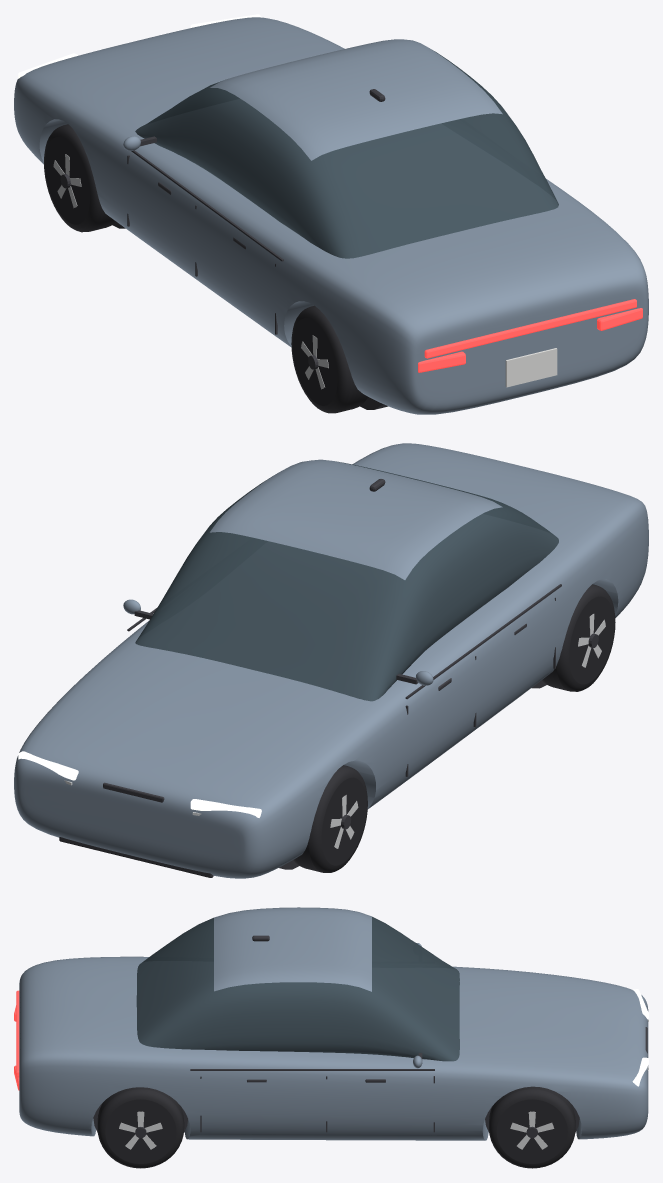
File: car_sedan.glb
The picture shows the model from 3 angles, top to bottom: view 1: azimuth 30°, elevation 25°; view 2: azimuth 150°, elevation 25°; view 3: azimuth 270°, elevation 25°; orthographic projection. The views are drawn at different scales.
Visible parts, largest first — view 1: car_body, car_glasshouse, car_wh10_tire, car_wh00_tire, car_tailbar, car_plate_r, car_tail0, car_seamh0, car_tail1; view 2: car_body, car_glasshouse, car_wh00_tire, car_wh10_tire, car_intake, car_head0; view 3: car_body, car_glasshouse, car_wh01_tire, car_wh11_tire, car_seamh1.
Boxes of the visible parts, box(x1,y1,x2,y2) form: car_body: box(14, 17, 648, 414); car_glasshouse: box(135, 39, 558, 258); car_wh10_tire: box(291, 305, 367, 413); car_wh00_tire: box(44, 124, 116, 232); car_tailbar: box(424, 299, 636, 358); car_plate_r: box(505, 348, 557, 387); car_tail0: box(418, 351, 465, 372); car_seamh0: box(131, 150, 283, 261); car_tail1: box(597, 308, 642, 330); car_body: box(14, 443, 648, 878); car_glasshouse: box(135, 459, 558, 701); car_wh00_tire: box(293, 765, 367, 872); car_wh10_tire: box(542, 584, 615, 691); car_intake: box(59, 837, 213, 877); car_head0: box(190, 799, 261, 817); car_body: box(19, 956, 648, 1140); car_glasshouse: box(136, 907, 459, 1061); car_wh01_tire: box(489, 1086, 575, 1168); car_wh11_tire: box(97, 1087, 184, 1168); car_seamh1: box(190, 1069, 434, 1070).
Size of the model in its own units: 2.02 by 1.47 by 4.54.
